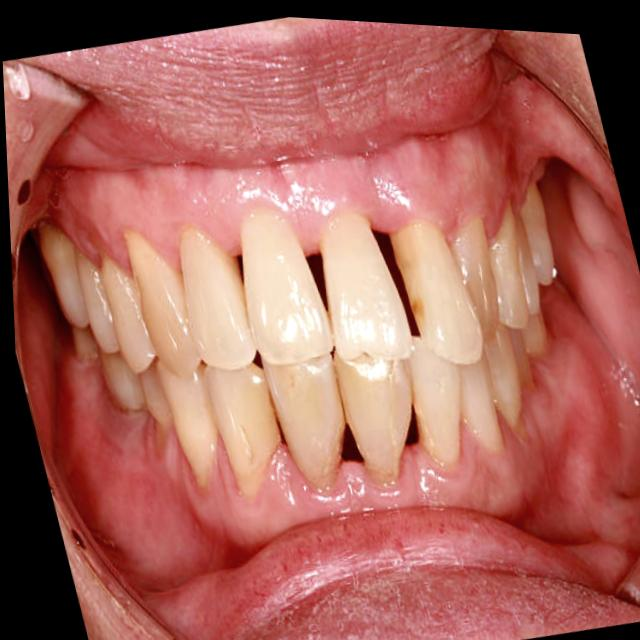gingivitis: (54, 127, 524, 267), (173, 416, 543, 548)
